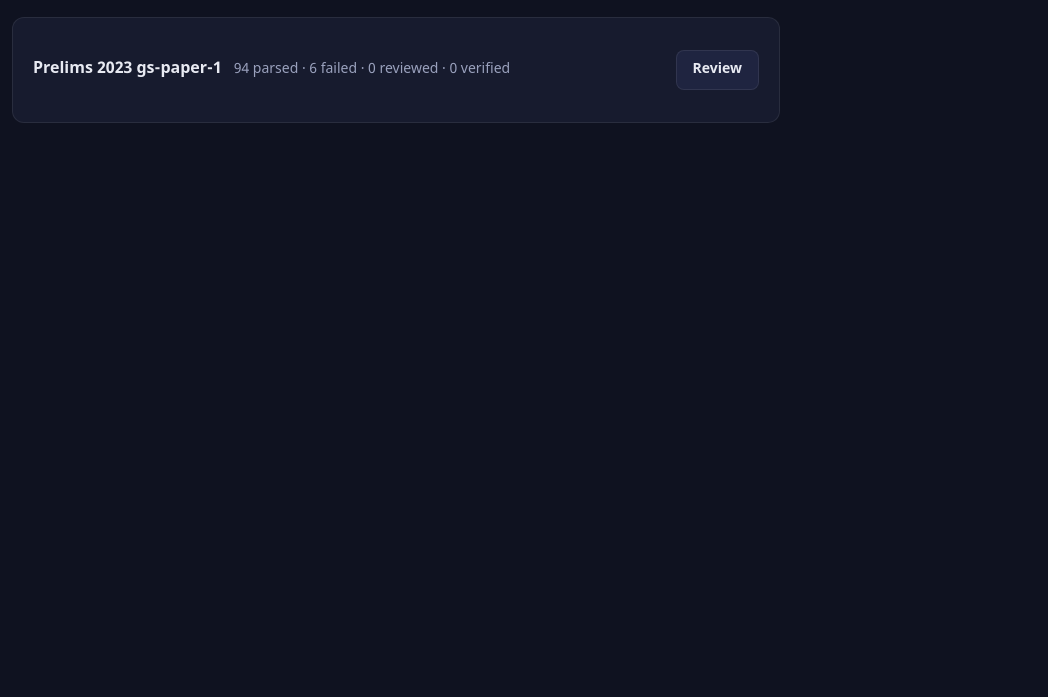
PYQ screen › shows existing tags with their status and who proposed them
Click the button with aria-label "review prelims 2023 gs-paper-1".
click(717, 70)  # box [676,50,759,90]
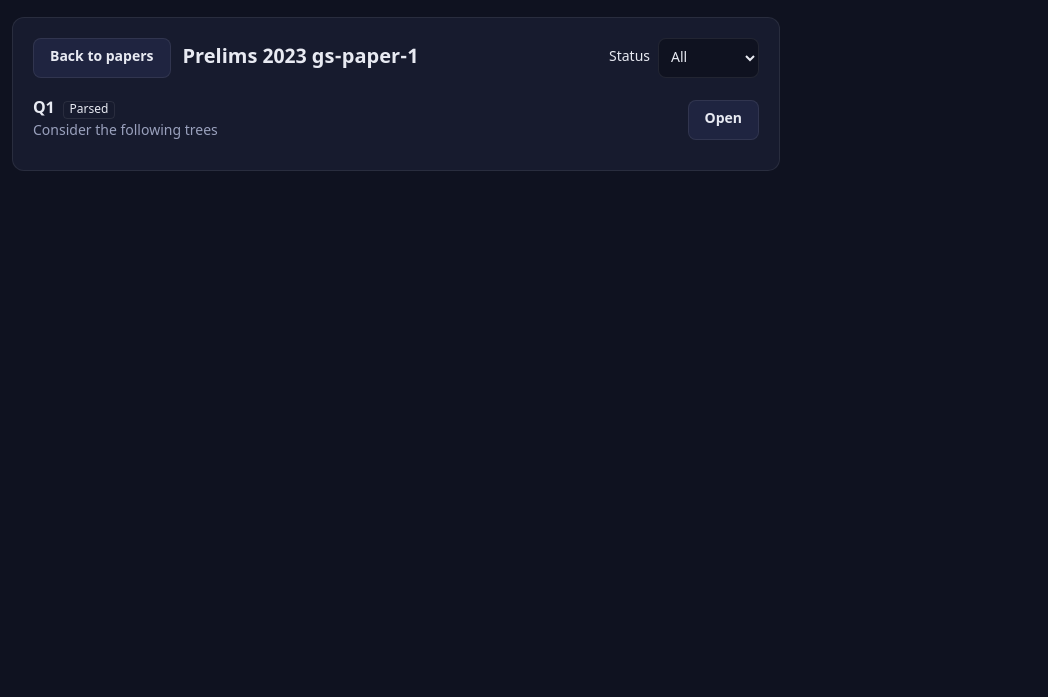
Click the button with aria-label "open question 1".
click(723, 120)  # box [688,100,759,140]
(page scrolled)
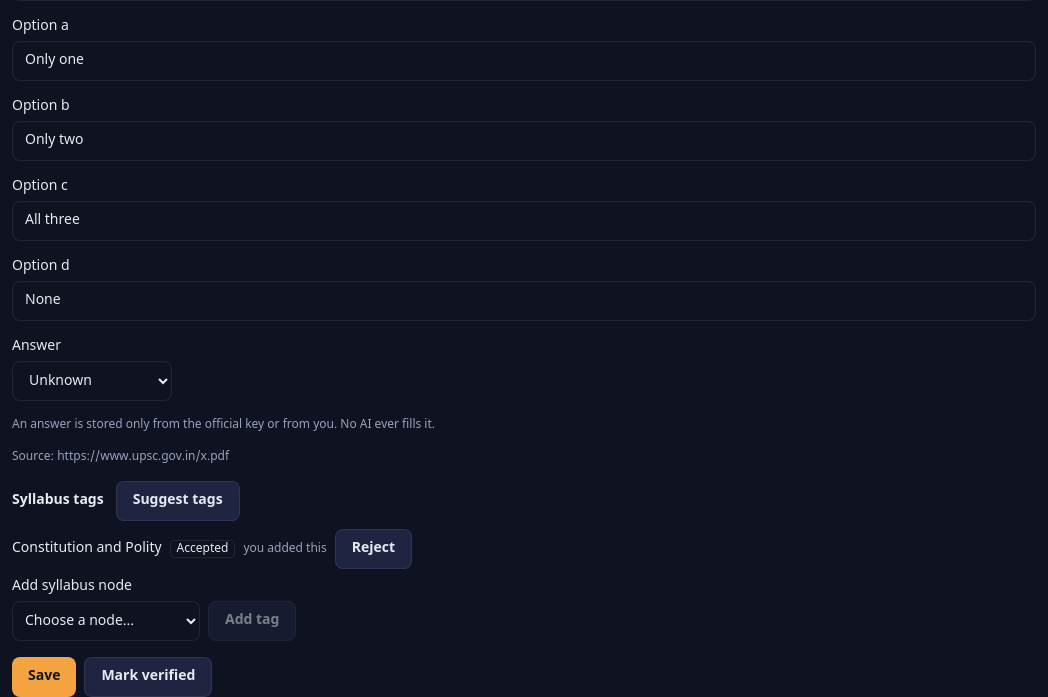
Expected: the text "Constitution and Polity" is shown, [12,539,162,559]
Expected: the text "Accepted" is shown, [170,540,235,558]
Expected: the text "you added this" is shown, [243,541,327,557]
